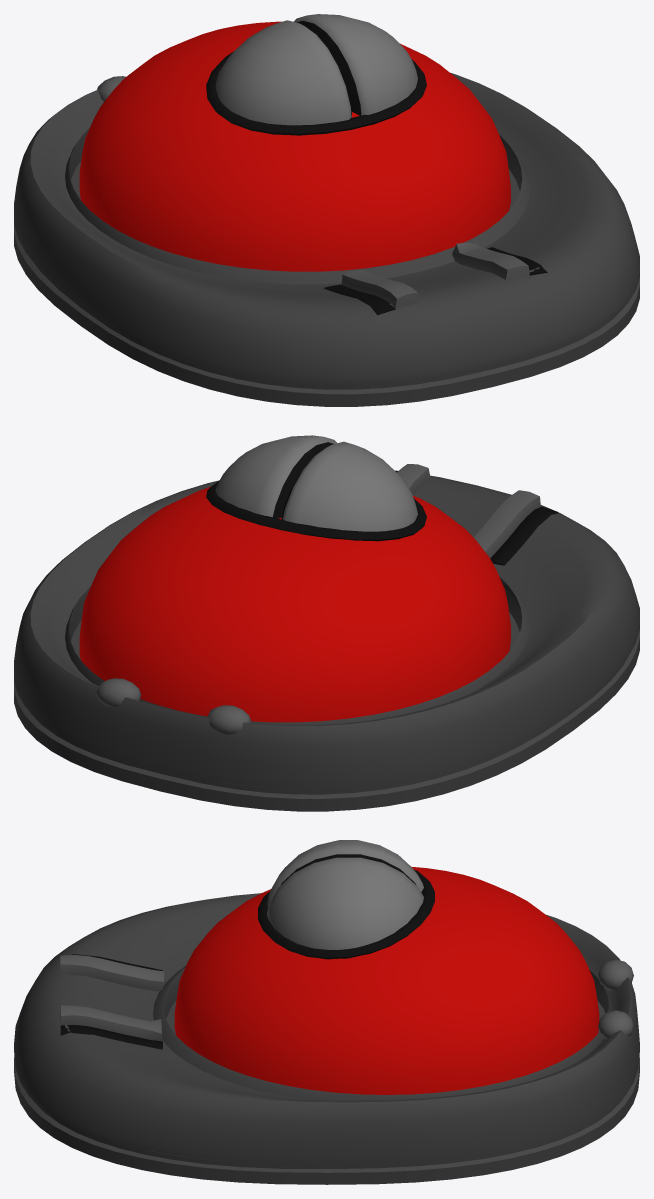
The model's file is eye_turret.glb.
The picture shows the model from 3 angles, top to bottom: view 1: azimuth 30°, elevation 25°; view 2: azimuth 150°, elevation 25°; view 3: azimuth 270°, elevation 25°; orthographic projection. The views are drawn at different scales.
Parts seen in each view (by area): view 1: housing, eye, lens, gasket, rib2.75, rib-2.25, slot-2.25; view 2: housing, eye, lens, gasket, rib-2.25, slot-2.25, lug0, lug1, rib2.75; view 3: housing, eye, lens, gasket, rib-2.25, rib2.75, slot2.75, lug0, lug1.
Part boxes in pixels (x1,y1,x2,y2): housing: (14,72,639,406); eye: (79,21,510,271); lens: (215,14,417,125); gasket: (206,51,426,135); rib2.75: (452,242,529,280); rib-2.25: (341,270,419,308); slot-2.25: (324,284,395,314); housing: (14,470,639,811); eye: (79,486,510,722); lens: (215,435,417,531); gasket: (206,480,426,541); rib-2.25: (473,490,540,558); slot-2.25: (490,506,558,565); lug0: (207,705,251,734); lug1: (96,678,141,707); rib2.75: (397,464,430,495); housing: (14,893,639,1184); eye: (174,866,599,1094); lens: (267,840,423,949); gasket: (258,869,434,959); rib-2.25: (60,955,164,991); rib2.75: (60,1005,162,1041); slot2.75: (60,1025,162,1049); lug0: (598,959,633,990); lug1: (598,1010,633,1039).
Size of the model in its own units: 22.4 by 10.04 by 26.1.
